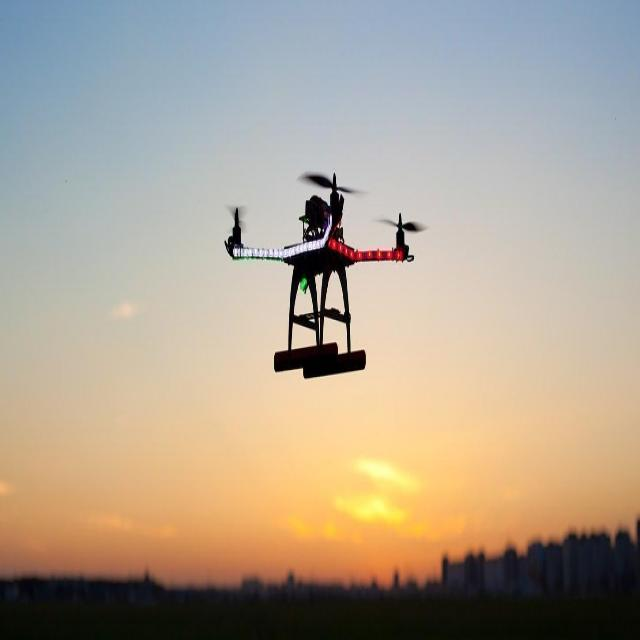UAV: (225, 163, 412, 385)
